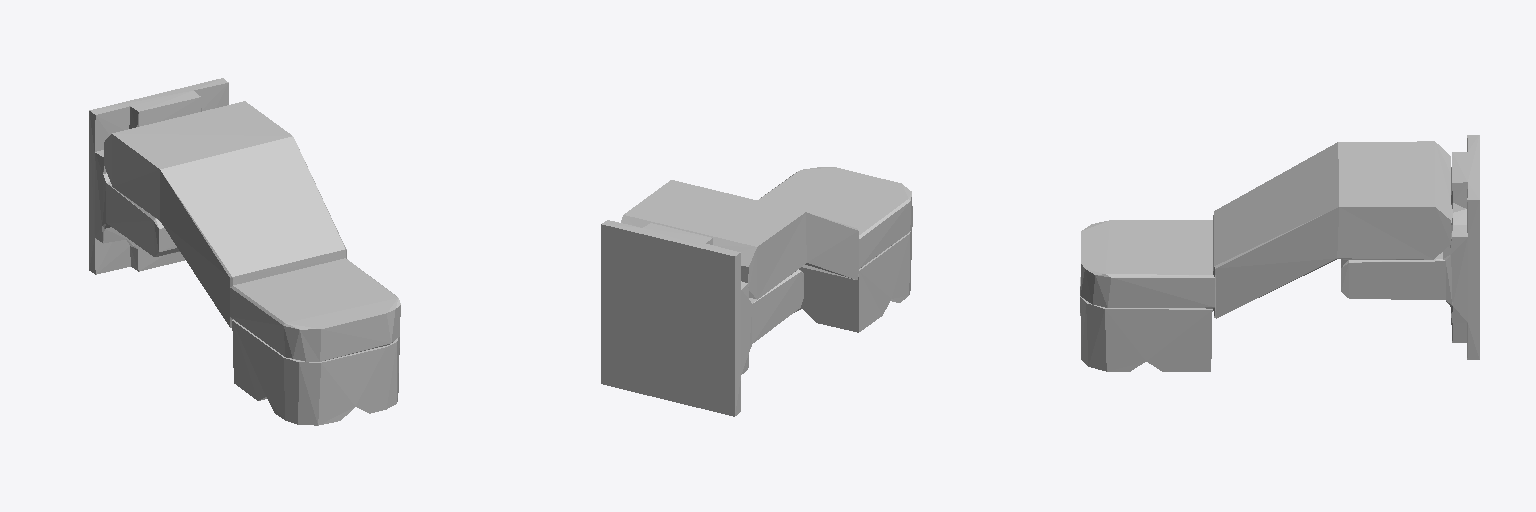
Rendered from finger.obj.
3 views of the same model, side by side, from view 1: azimuth 30°, elevation 25°; view 2: azimuth 150°, elevation 25°; view 3: azimuth 270°, elevation 25° (orthographic).
Bounding box in the file's own units: 0.021 × 0.0264 × 0.0538.